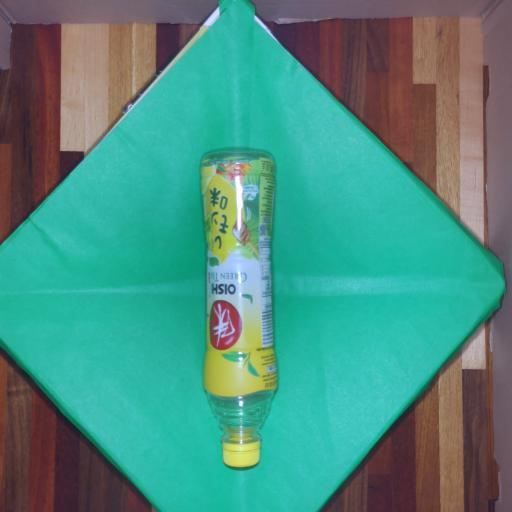bottle: (202, 150, 277, 467)
